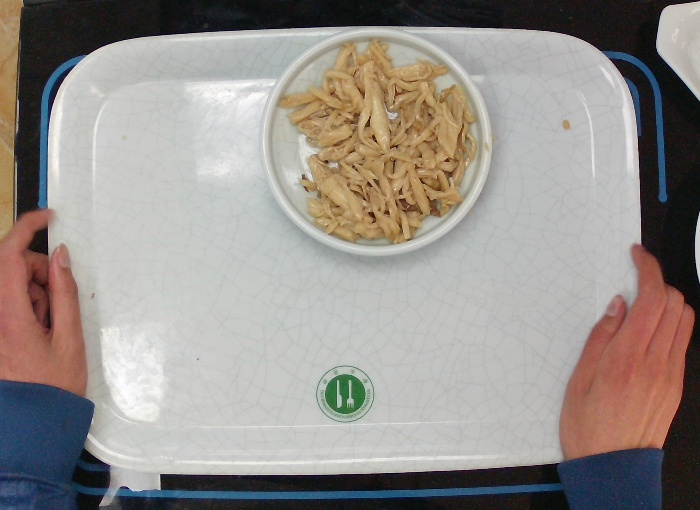JYsf-Xiao_Yuan_Pan: (261, 25, 493, 266)
